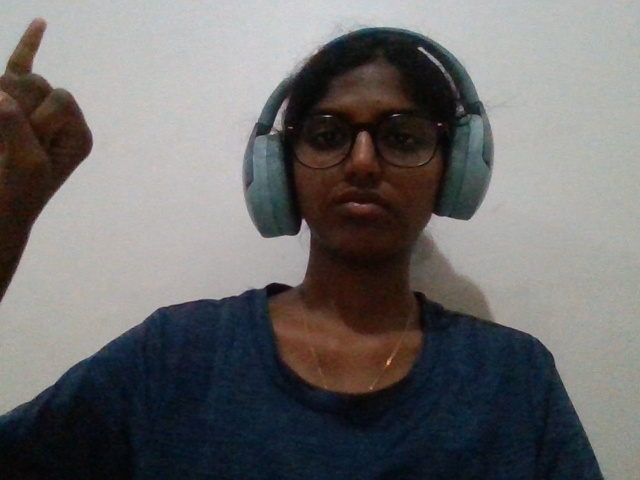I: (1, 13, 100, 303)
